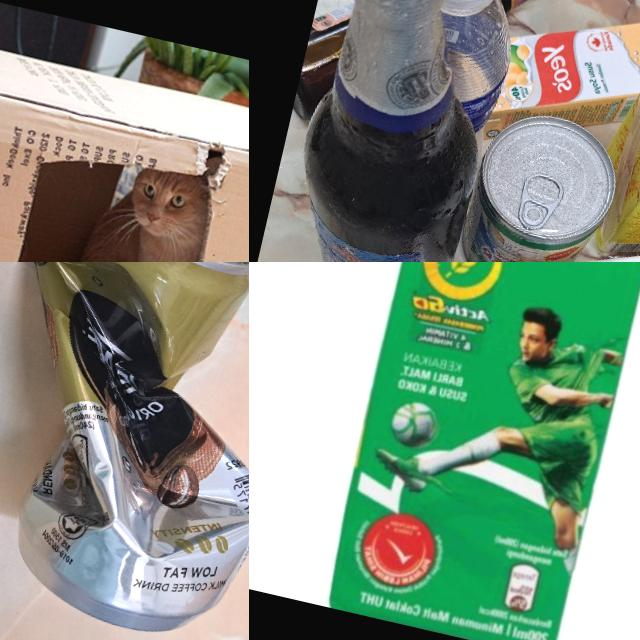aba de lata: (514, 168, 566, 234)
caixinha: (320, 262, 640, 640), (444, 0, 640, 169), (583, 44, 640, 262)
garrafa de vidro: (274, 0, 522, 262), (294, 0, 576, 156)
garrafa plástica: (370, 0, 521, 166)
lata: (0, 262, 249, 640), (444, 104, 624, 262)
papelão: (0, 12, 249, 262)
